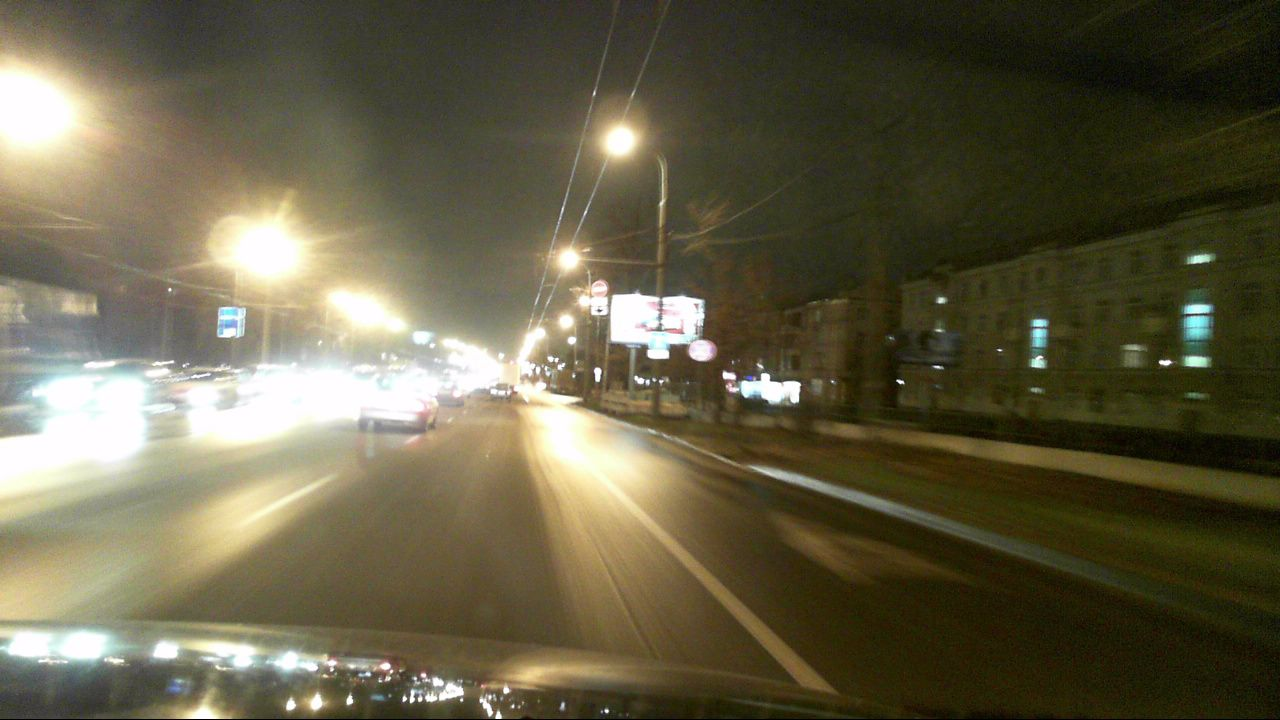No Parking: (688, 337, 712, 361)
